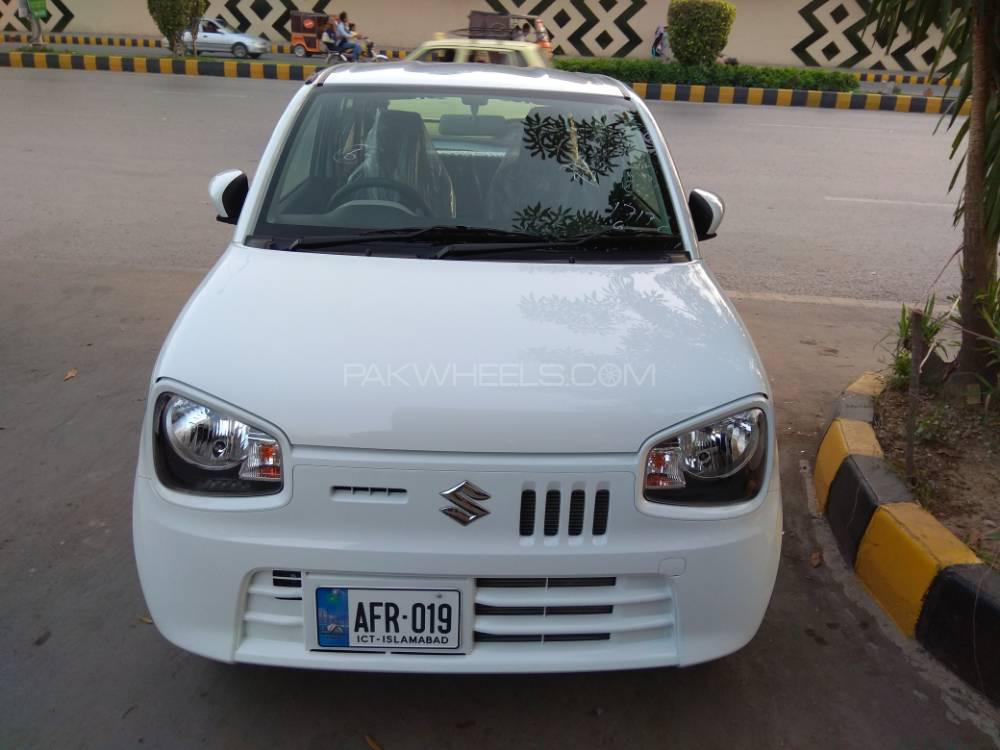license plate: (316, 587, 459, 647)
